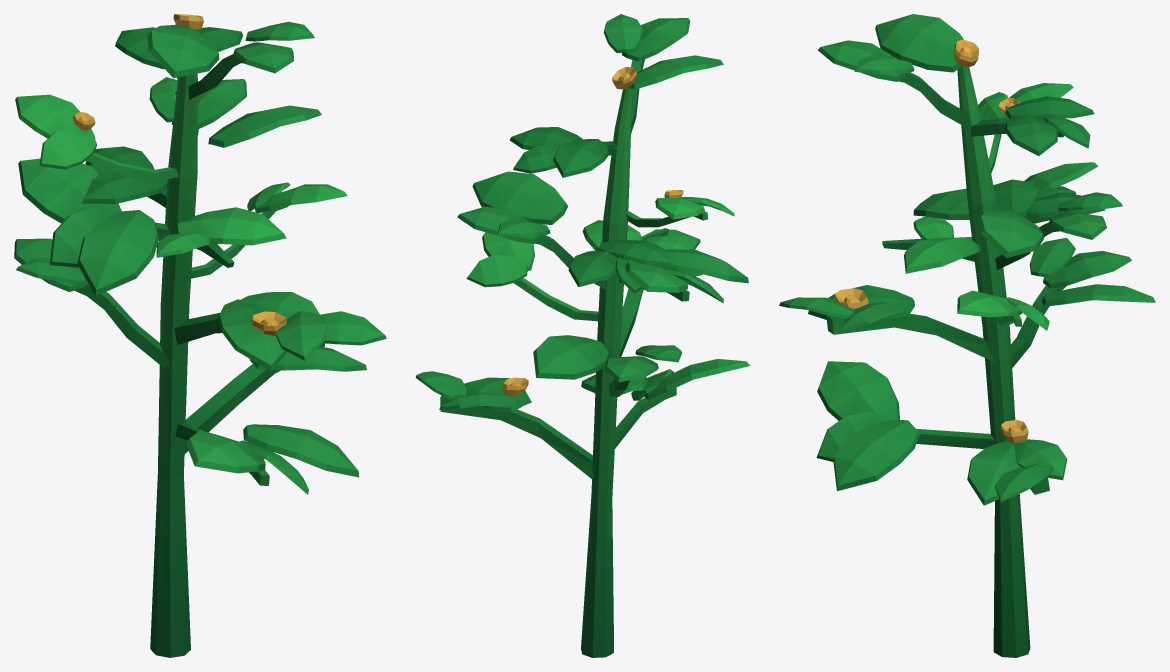
Rendered from crop_tomato_stage2.glb.
3 views of the same model, side by side, from view 1: azimuth 30°, elevation 25°; view 2: azimuth 150°, elevation 25°; view 3: azimuth 270°, elevation 25° (orthographic). The views are drawn at different scales.
Parts seen in each view (by area): view 1: crop_tomato_stage2; view 2: crop_tomato_stage2; view 3: crop_tomato_stage2.
Boxes of the visible parts, bbox=[...] form: crop_tomato_stage2: bbox=[14, 14, 386, 657]; crop_tomato_stage2: bbox=[415, 14, 750, 657]; crop_tomato_stage2: bbox=[779, 14, 1155, 657].
Size of the model in its own units: 0.3457 by 0.62 by 0.3466.
1 material, 1 textured.
